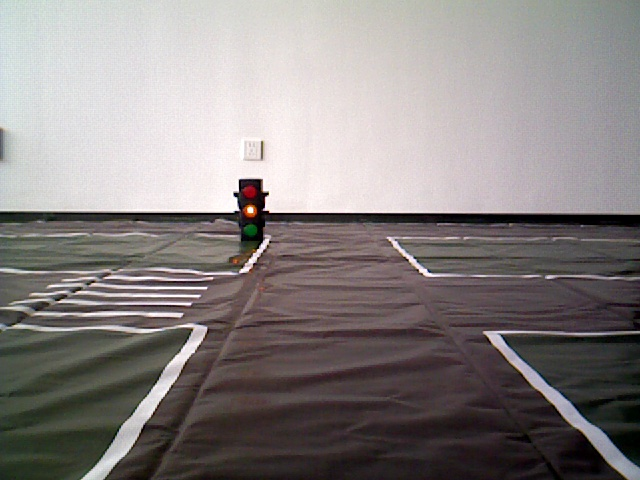yellow: (235, 176, 267, 242)
